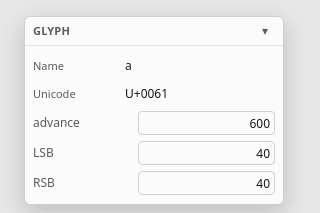
Scenario: InfoBox › collapses and expands from its header
Expected: the field labelled "advance" is shown, [138,111,275,135]
Click the button named "Collapse info box".
click(265, 31)  # box [255,21,275,41]
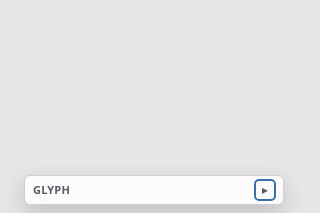
Now the text labelled "advance" is gone
